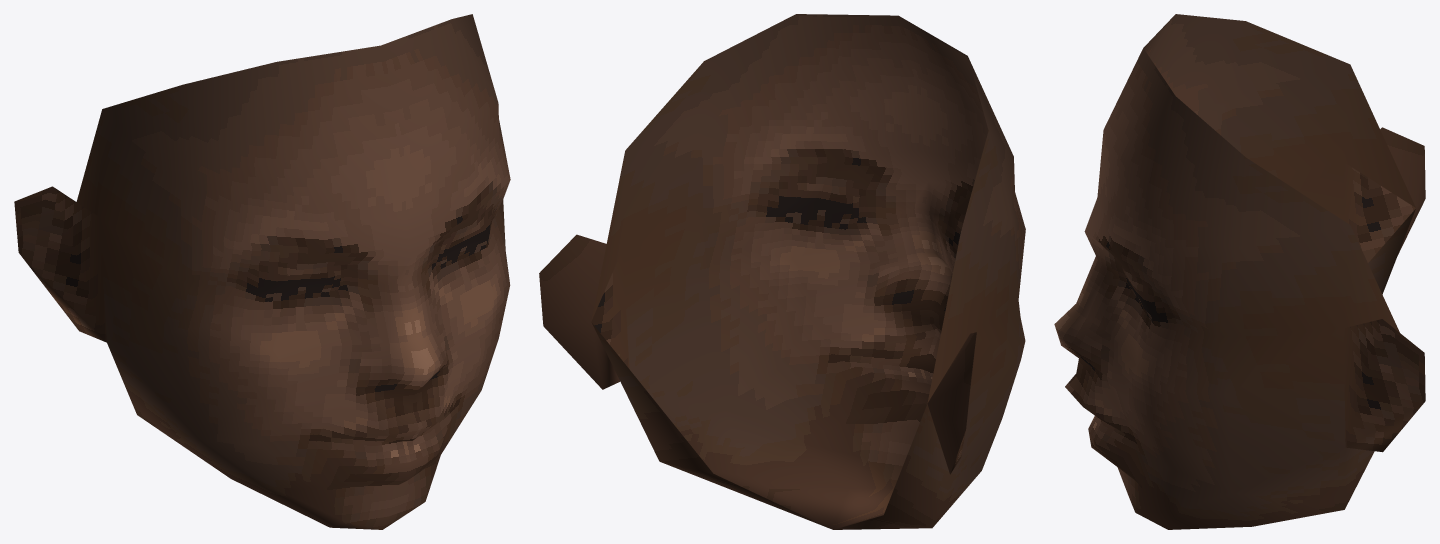
3 renders of one model, left to right at view 1: azimuth 30°, elevation 25°; view 2: azimuth 150°, elevation 25°; view 3: azimuth 270°, elevation 25°, orthographic. The views are drawn at different scales.
Bounding box in the file's own units: 19.4 × 20.74 × 14.72.
Materials: 1 (1 with a texture image).
